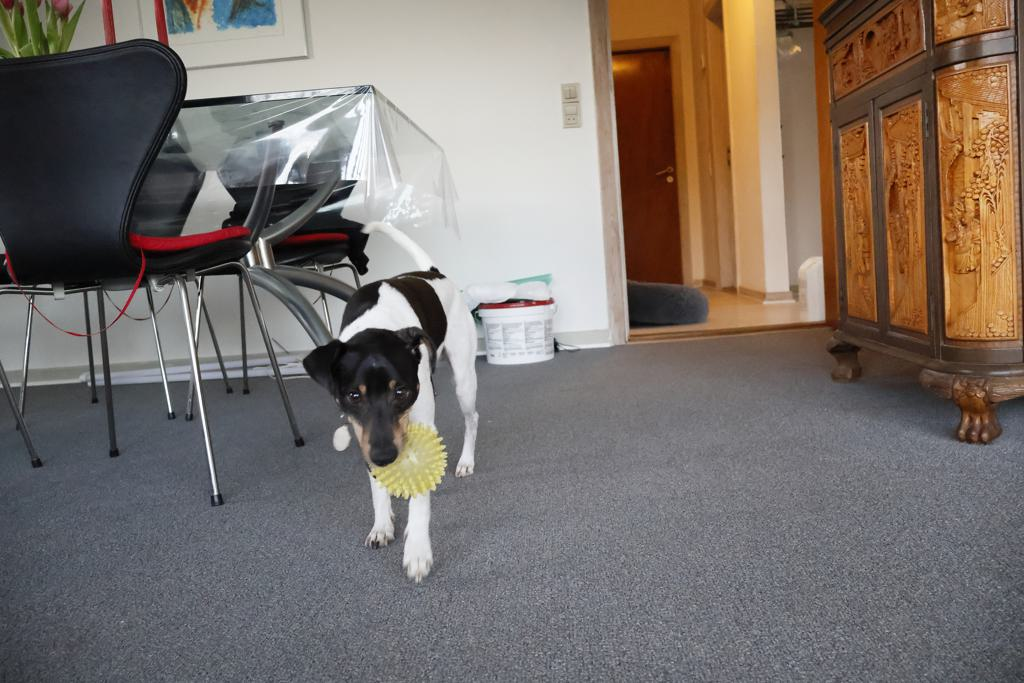Dog: (294, 198, 494, 600)
